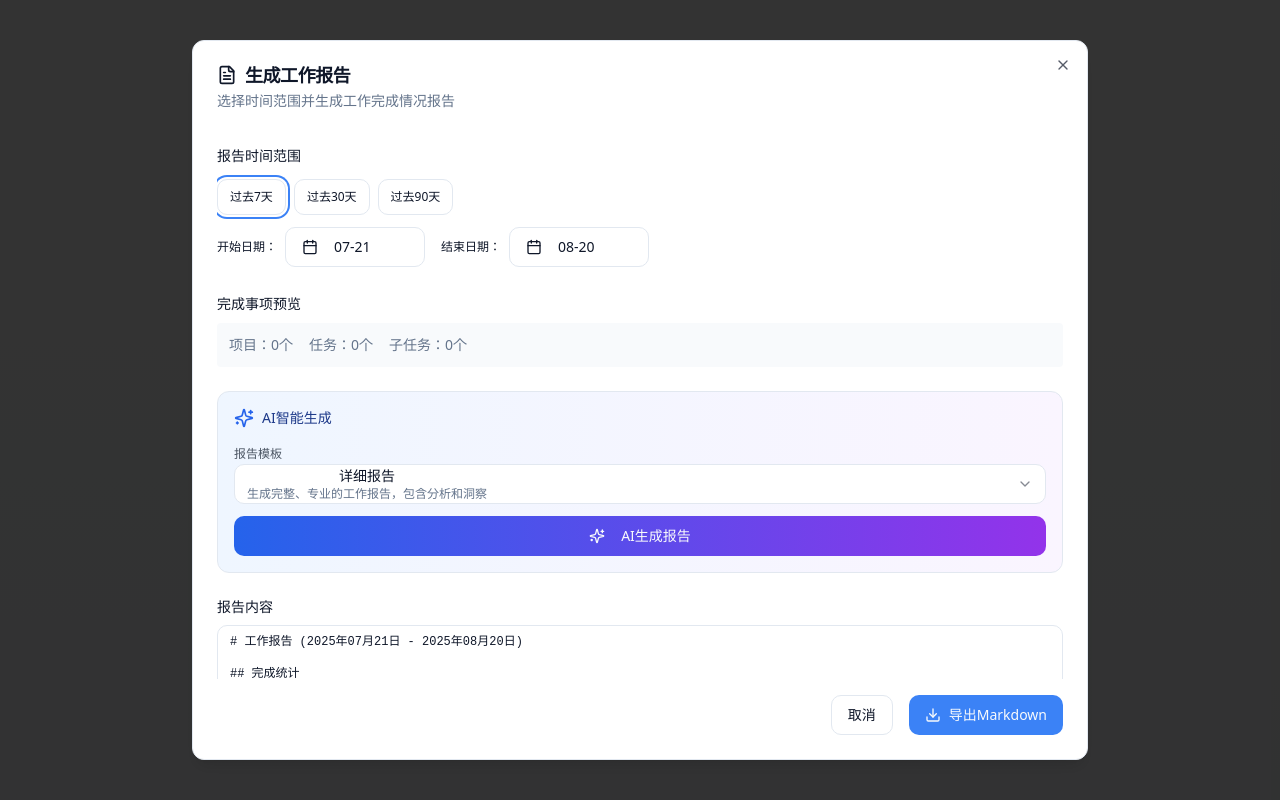
it: ReportModal AI功能 › AI生成流程 › 处理AI生成失败
Click the text "AI生成报告": (656, 536) [621,526,691,546]
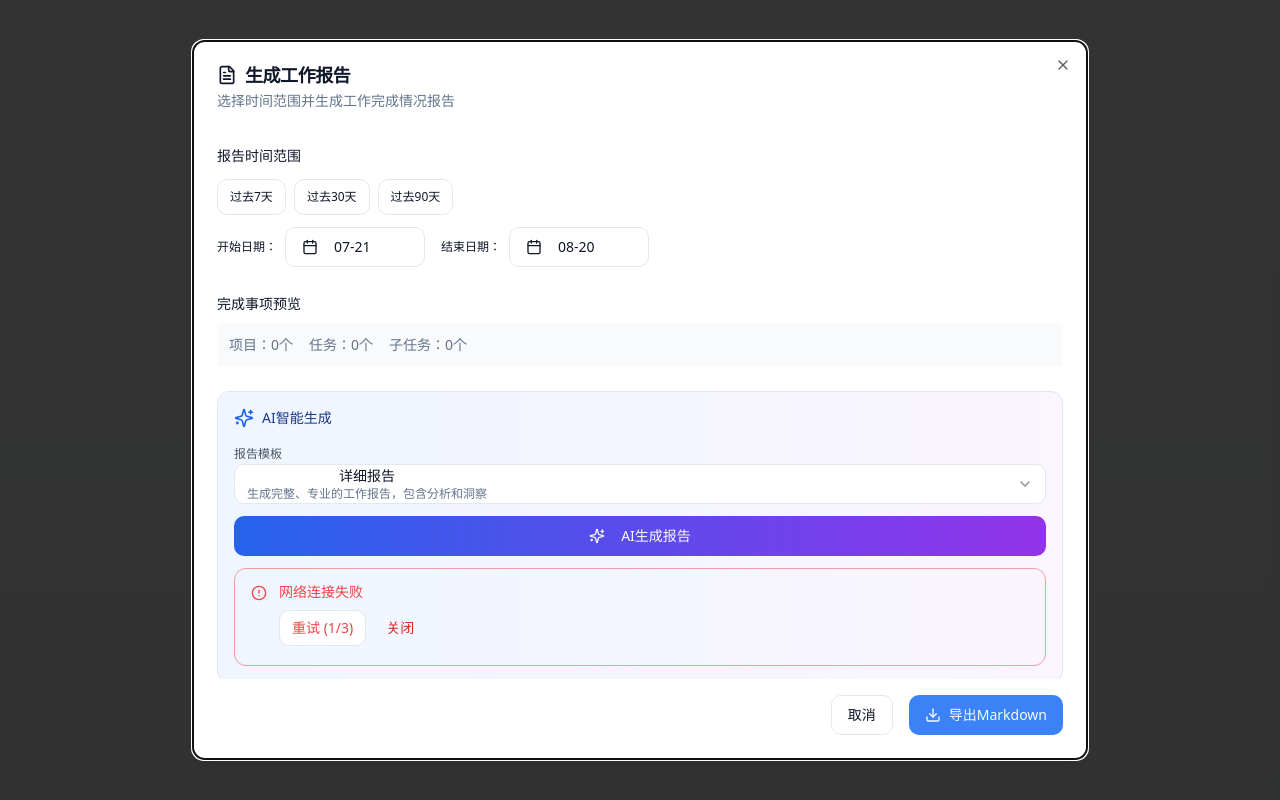
Now the text "网络连接失败" is shown, box [279,582,363,601]
Now the button "重试 (1/3)" is shown, box [279,610,366,646]
